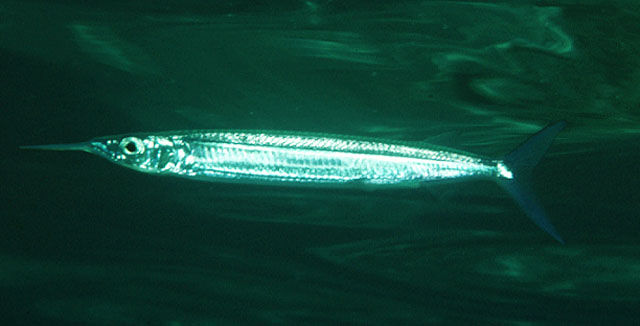fish: (21, 121, 563, 244)
